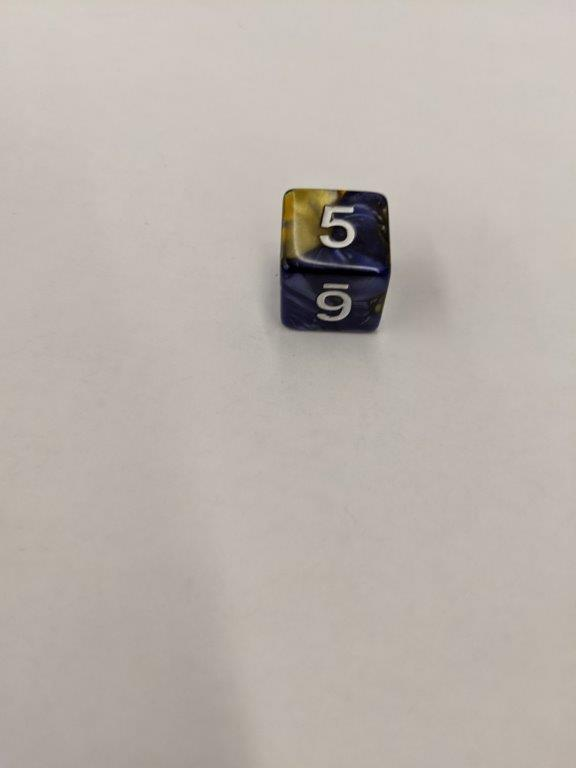d6-5: (276, 186, 395, 335)
